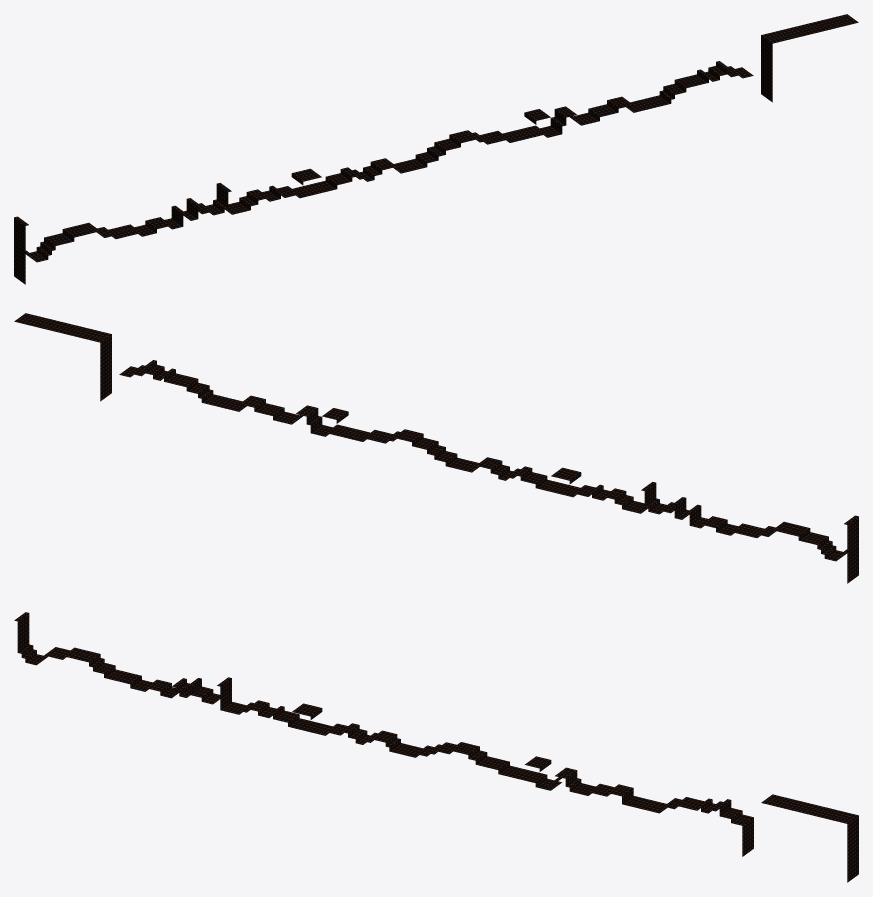
The model's file is Luna2Rachadura05.glb.
3 renders of one model, top to bottom at view 1: azimuth 30°, elevation 25°; view 2: azimuth 150°, elevation 25°; view 3: azimuth 330°, elevation 25°, orthographic.
Visible parts, largest first — view 1: Setor_1, Setor_4, Setor_6, Setor_2, Setor_5, Setor_3, Setor_0, Setor_-1; view 2: Setor_1, Setor_4, Setor_6, Setor_2, Setor_5, Setor_3, Setor_0, Setor_-1; view 3: Setor_6, Setor_0, Setor_4, Setor_2, Setor_1, Setor_5, Setor_3.
Part boxes in pixels (x1,y1,x2,y2): Setor_1: (135, 183, 265, 235); Setor_4: (495, 98, 625, 142); Setor_6: (735, 14, 858, 102); Setor_2: (254, 161, 385, 201); Setor_5: (615, 61, 745, 112); Setor_3: (375, 130, 505, 173); Setor_0: (14, 216, 145, 262); Setor_-1: (14, 217, 25, 284); Setor_1: (607, 482, 737, 534); Setor_4: (247, 397, 377, 441); Setor_6: (14, 313, 137, 401); Setor_2: (487, 460, 618, 500); Setor_5: (127, 360, 257, 411); Setor_3: (367, 429, 497, 472); Setor_0: (727, 515, 858, 561); Setor_-1: (847, 516, 858, 583); Setor_6: (735, 794, 858, 882); Setor_0: (14, 612, 145, 688); Setor_4: (495, 756, 625, 796); Setor_2: (254, 702, 385, 744); Setor_1: (134, 677, 265, 714); Setor_5: (615, 786, 745, 823); Setor_3: (375, 731, 505, 769).
Size of the model in its own units: 231 by 15.6 by 5.6.
1 material, 1 textured.
